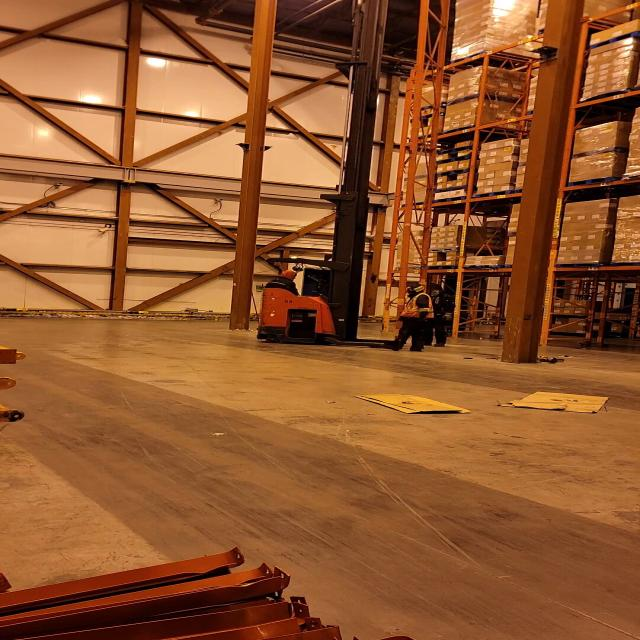forklift: (252, 192, 404, 349)
human: (384, 284, 442, 354), (419, 278, 462, 346), (256, 266, 309, 297)
objectofinterest: (384, 5, 444, 357), (346, 391, 478, 418), (496, 387, 612, 415)
